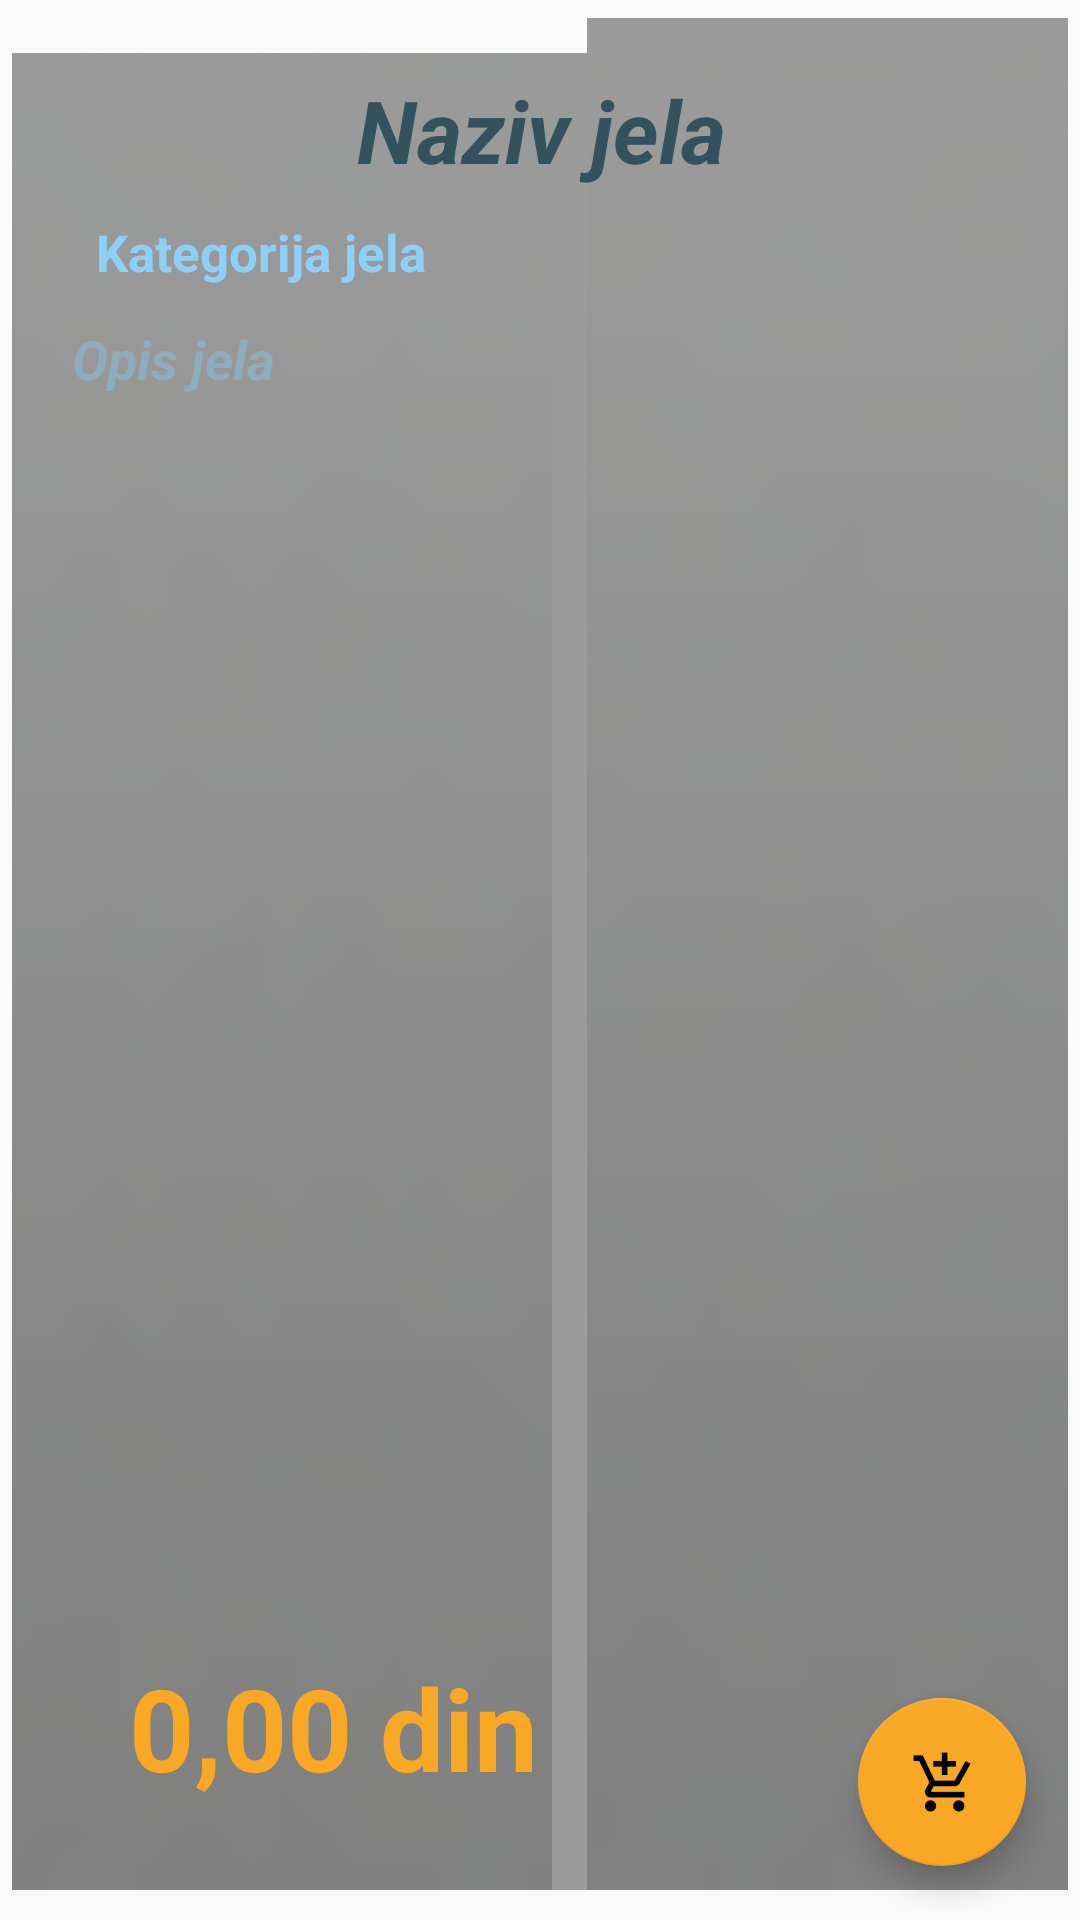

Icons on this 1080 × 1920 Android screen, each with the point to tap as (x,y):
korpa: (942,1782)
